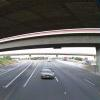Bridge: (5, 17, 89, 65)
